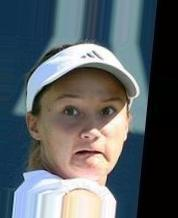face: (58, 95, 120, 163)
